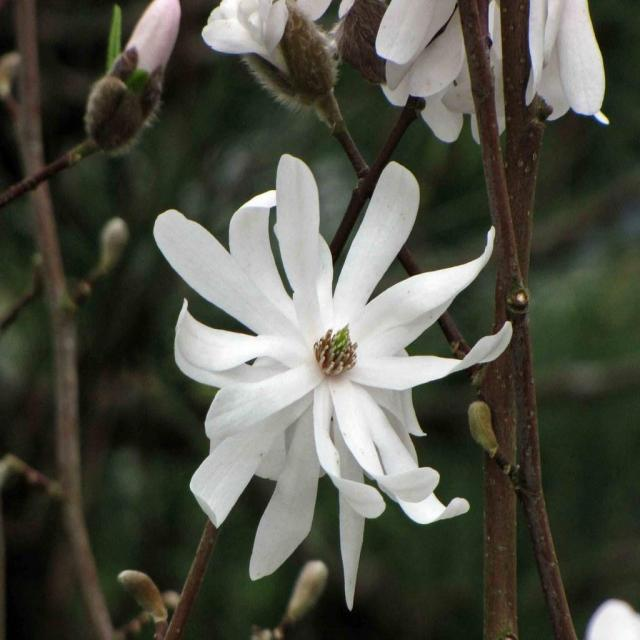organic waste: (138, 165, 508, 570)
